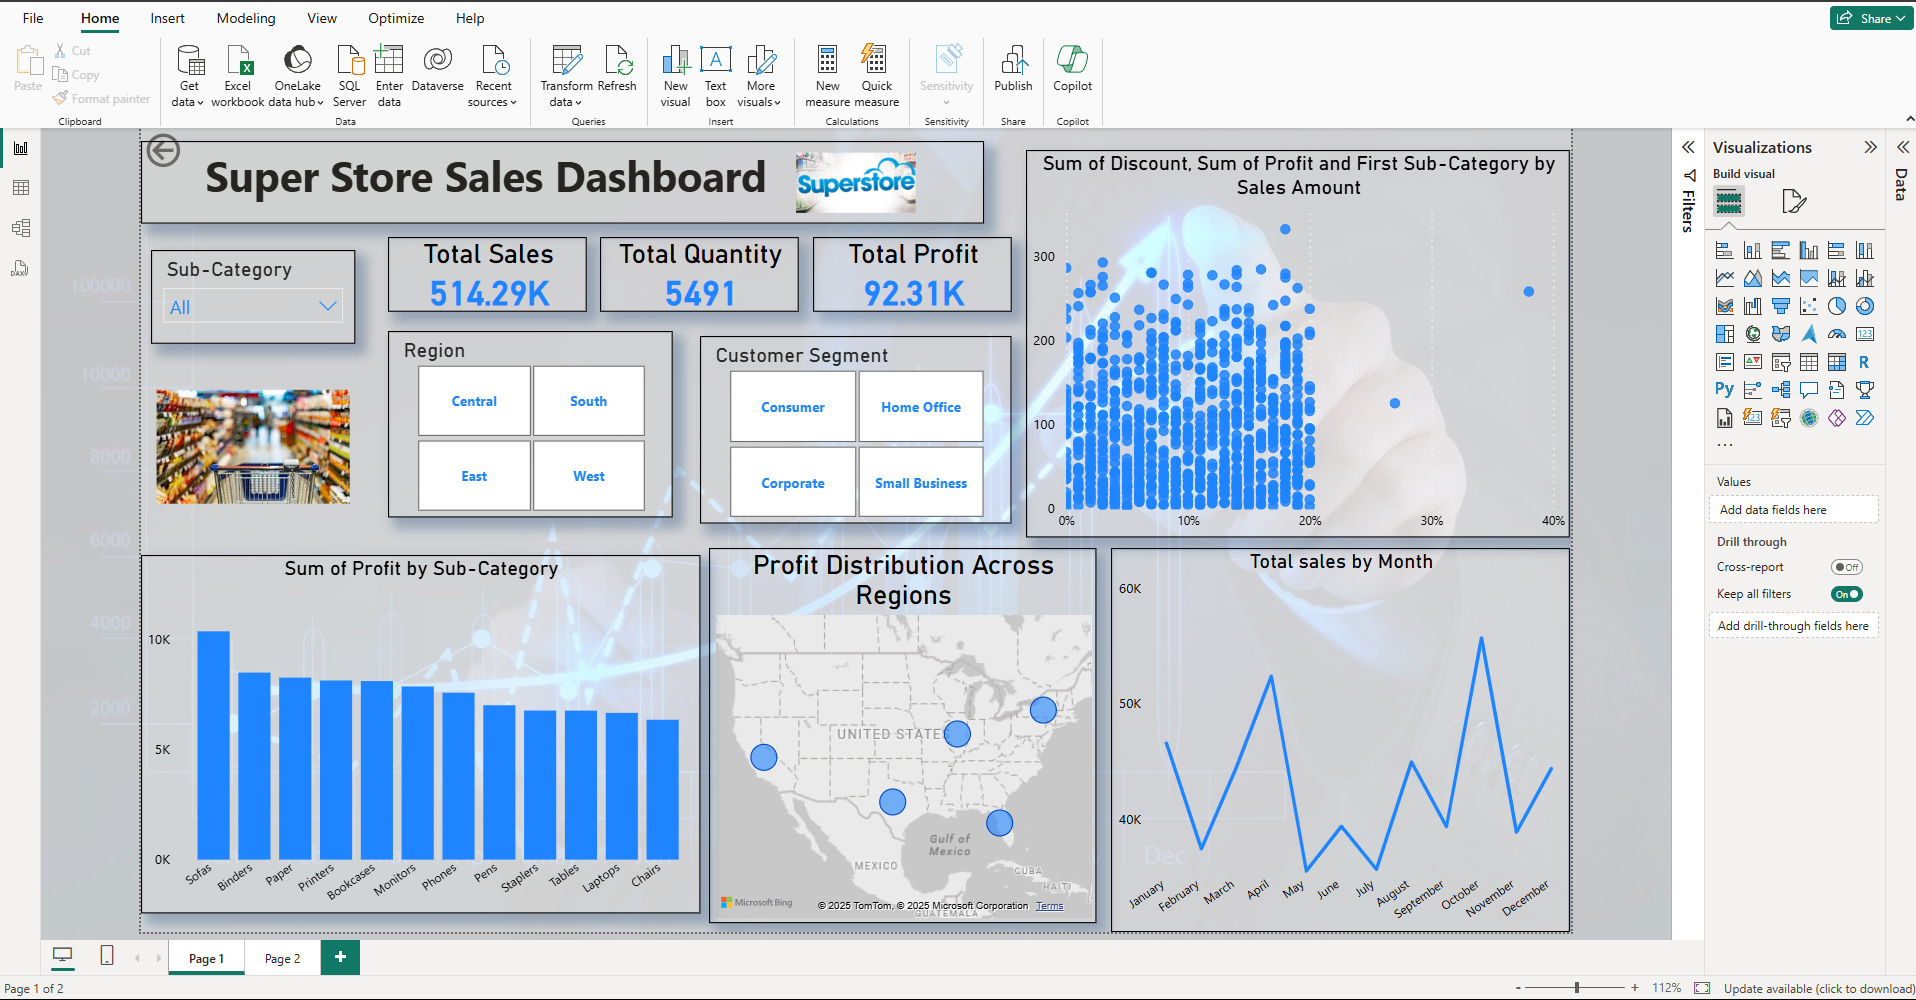

Layout of this report page (visuals, bound fields, positions):
{"tool":"powerbi","page":{"name":"Page 1","canvas":[1280,720],"ordinal":0},"visuals":[{"type":"card","title":"Total Profit","fields":{"Values":["Sheet1.Total Profit"]},"box":[601.8,97.6,178.2,67.2],"z":0},{"type":"card","title":"Total Quantity","fields":{"Values":["Sheet1.Total Quantity"]},"box":[411,97.6,178.2,67.2],"z":1000},{"type":"card","title":"Total Sales","fields":{"Values":["Sheet1.Total sales"]},"box":[221.2,97.6,178.2,67.2],"z":2000},{"type":"actionButton","box":[0,0,100,40],"z":3000},{"type":"lineChart","fields":{"Category":["Sheet1.Order Date.Variation.Date Hierarchy.Month"],"Y":["Sheet1.Total sales"]},"box":[868.7,376.1,411,343.9],"z":4000},{"type":"map","title":"Profit Distribution Across Regions","fields":{"Category":["Sheet1.State"]},"box":[508.7,376.1,346.6,335.8],"z":5000},{"type":"columnChart","fields":{"Y":["Sum(Sheet1.Profit)"],"Category":["Sheet1.Sub-Category"]},"box":[0,382.4,500.6,320.6],"z":6000},{"type":"slicer","fields":{"Values":["Sheet1.Customer Segment"]},"box":[500.6,186.3,279.4,168.4],"z":7000},{"type":"slicer","fields":{"Values":["Sheet1.Region"]},"box":[221.2,181.8,255.2,166.6],"z":8000},{"type":"slicer","fields":{"Values":["Sheet1.Sub-Category"]},"box":[8.6,108.8,183.4,84.4],"z":9000},{"type":"textbox","box":[0,11.6,754.9,74.3],"z":10000},{"type":"scatterChart","fields":{"X":["Sum(Sheet1.Discount)"],"Y":["Sum(Sheet1.Profit)"],"Category":["Sheet1.Sales Amount"]},"box":[792.5,19.7,487.2,347.5],"z":11000},{"type":"image","box":[551.6,17,177.3,64.5],"z":12000},{"type":"image","box":[8.6,193.2,183.4,183.4],"z":13000}]}

Visuals, with their boxes on the page's 1280x720 design canvas (x1, y1, x2, y2). These are canvas units, not pixel positions in the 1916x1000 screenshot, which may show the page scaled, cropped or inside an application window:
"Total Profit" card: [left=602, top=98, right=780, bottom=165]
"Total Quantity" card: [left=411, top=98, right=589, bottom=165]
"Total Sales" card: [left=221, top=98, right=399, bottom=165]
actionButton: [left=0, top=0, right=100, bottom=40]
lineChart - Sheet1.Order Date.Variation.Date Hierarchy.Month x Sheet1.Total sales: [left=869, top=376, right=1280, bottom=720]
"Profit Distribution Across Regions" map: [left=509, top=376, right=855, bottom=712]
columnChart - Sum(Sheet1.Profit) x Sheet1.Sub-Category: [left=0, top=382, right=501, bottom=703]
slicer - Sheet1.Customer Segment: [left=501, top=186, right=780, bottom=355]
slicer - Sheet1.Region: [left=221, top=182, right=476, bottom=348]
slicer - Sheet1.Sub-Category: [left=9, top=109, right=192, bottom=193]
textbox: [left=0, top=12, right=755, bottom=86]
scatterChart - Sum(Sheet1.Discount) x Sum(Sheet1.Profit): [left=792, top=20, right=1280, bottom=367]
image: [left=552, top=17, right=729, bottom=82]
image: [left=9, top=193, right=192, bottom=377]
